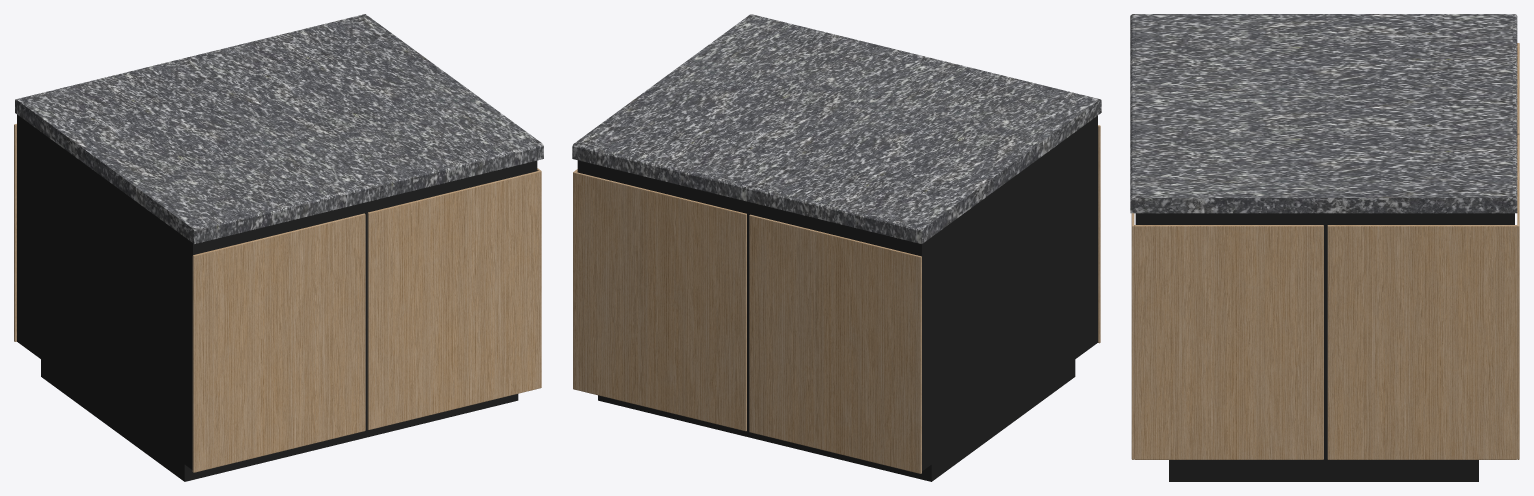
The model's file is Island_mini.fbx.
3 renders of one model, left to right at view 1: azimuth 30°, elevation 25°; view 2: azimuth 150°, elevation 25°; view 3: azimuth 270°, elevation 25°, orthographic. The views are drawn at different scales.
Parts seen in each view (by area): view 1: Counter_Face, Counter_Top, Counter_Body, Counter_Base; view 2: Counter_Face, Counter_Top, Counter_Body, Counter_Base; view 3: Counter_Face, Counter_Top, Counter_Base, Counter_Body.
Boxes of the visible parts, left/top/right/bottom form: Counter_Face: left=14, top=124, right=541, bottom=472; Counter_Top: left=15, top=14, right=543, bottom=243; Counter_Body: left=17, top=114, right=537, bottom=469; Counter_Base: left=41, top=359, right=518, bottom=481; Counter_Face: left=573, top=125, right=1100, bottom=473; Counter_Top: left=572, top=14, right=1101, bottom=243; Counter_Body: left=577, top=115, right=1097, bottom=471; Counter_Base: left=598, top=359, right=1075, bottom=481; Counter_Face: left=1131, top=43, right=1519, bottom=459; Counter_Top: left=1130, top=14, right=1517, bottom=213; Counter_Base: left=1169, top=457, right=1478, bottom=481; Counter_Body: left=1135, top=213, right=1514, bottom=457.
Bounding box in the file's own units: 116 × 84.42 × 103.
3 materials, 2 textured.
